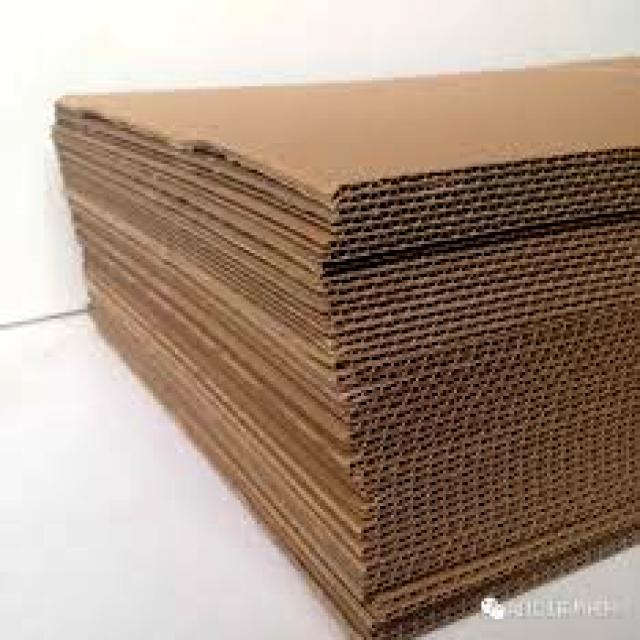Cardboard: (43, 44, 640, 640)
